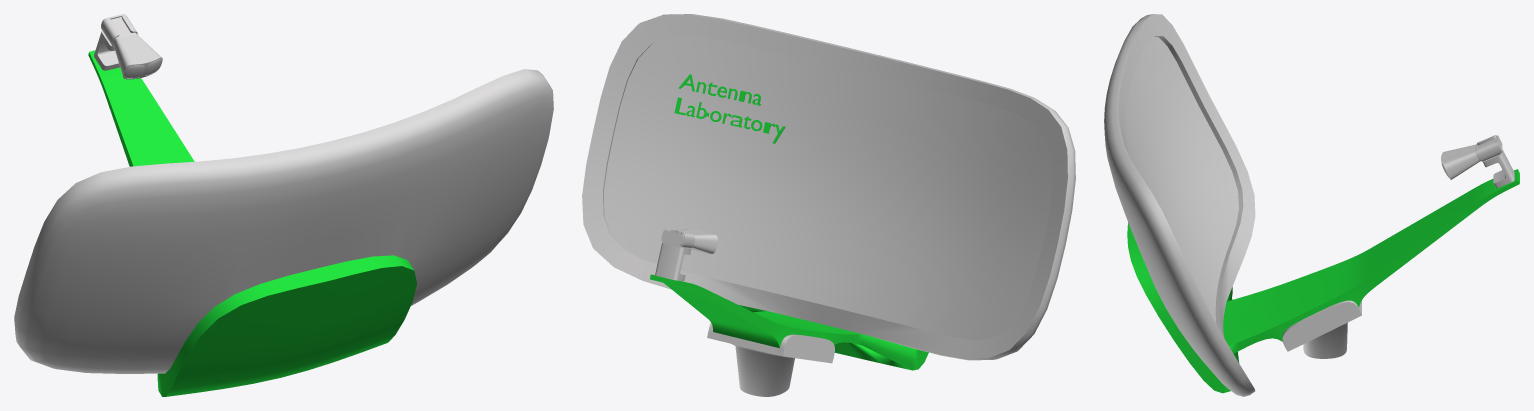
File: antenna.glb
3 renders of one model, left to right at view 1: azimuth 30°, elevation 25°; view 2: azimuth 150°, elevation 25°; view 3: azimuth 270°, elevation 25°, orthographic. The views are drawn at different scales.
Parts seen in each view (by area): view 1: Satellite antena; view 2: Satellite antena, Text; view 3: Satellite antena.
Part boxes in pixels (box(x1,y1,x2,y2)): Satellite antena: box(14, 14, 553, 396); Satellite antena: box(582, 14, 1075, 396); Text: box(674, 74, 785, 143); Satellite antena: box(1104, 14, 1519, 396).
Bounding box in the file's own units: 0.2127 × 0.114 × 0.1718.
